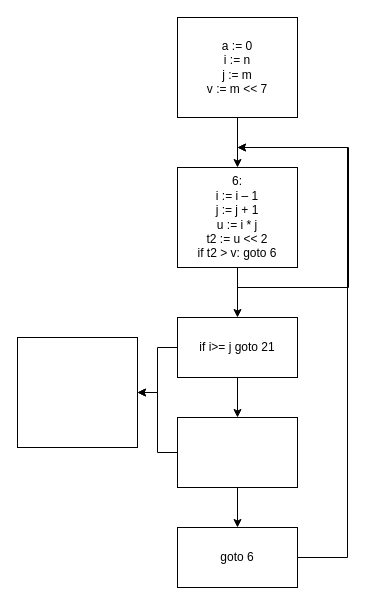
Image size: 374x605. Some labels were removed from this diagram. Each missing label, with the box of its shape:
21: t6 := m << 9 a := a + t6 b := a << 2 b := b + a: (16, 336, 138, 448)
t3 := v + 1 a := a + t3 if j > v goto 21: (176, 416, 298, 488)
